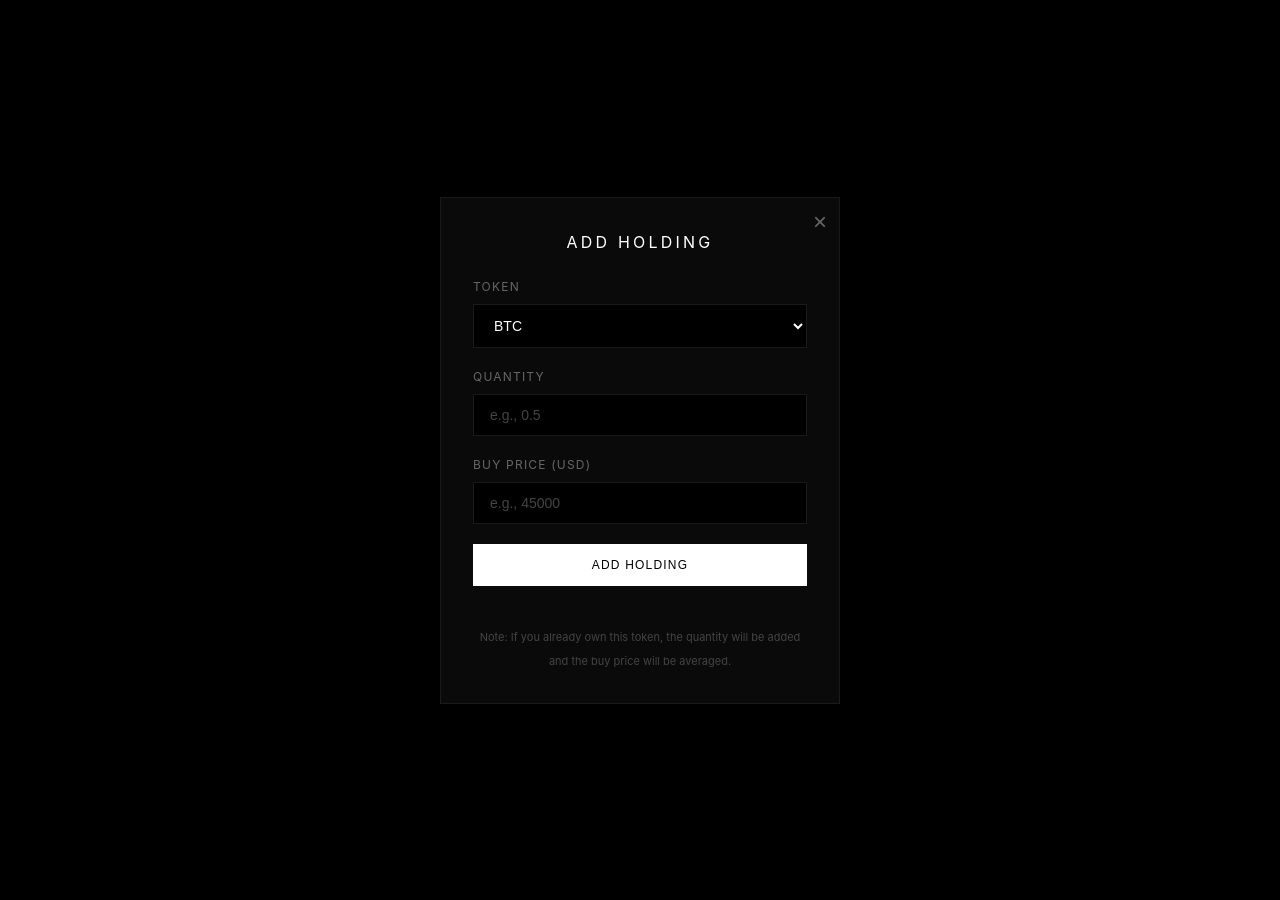
it: AddHoldingModal › shows error on network failure
Type "0.5" into the number field labelled "Quantity" at (640,414), box [473,394,807,436]
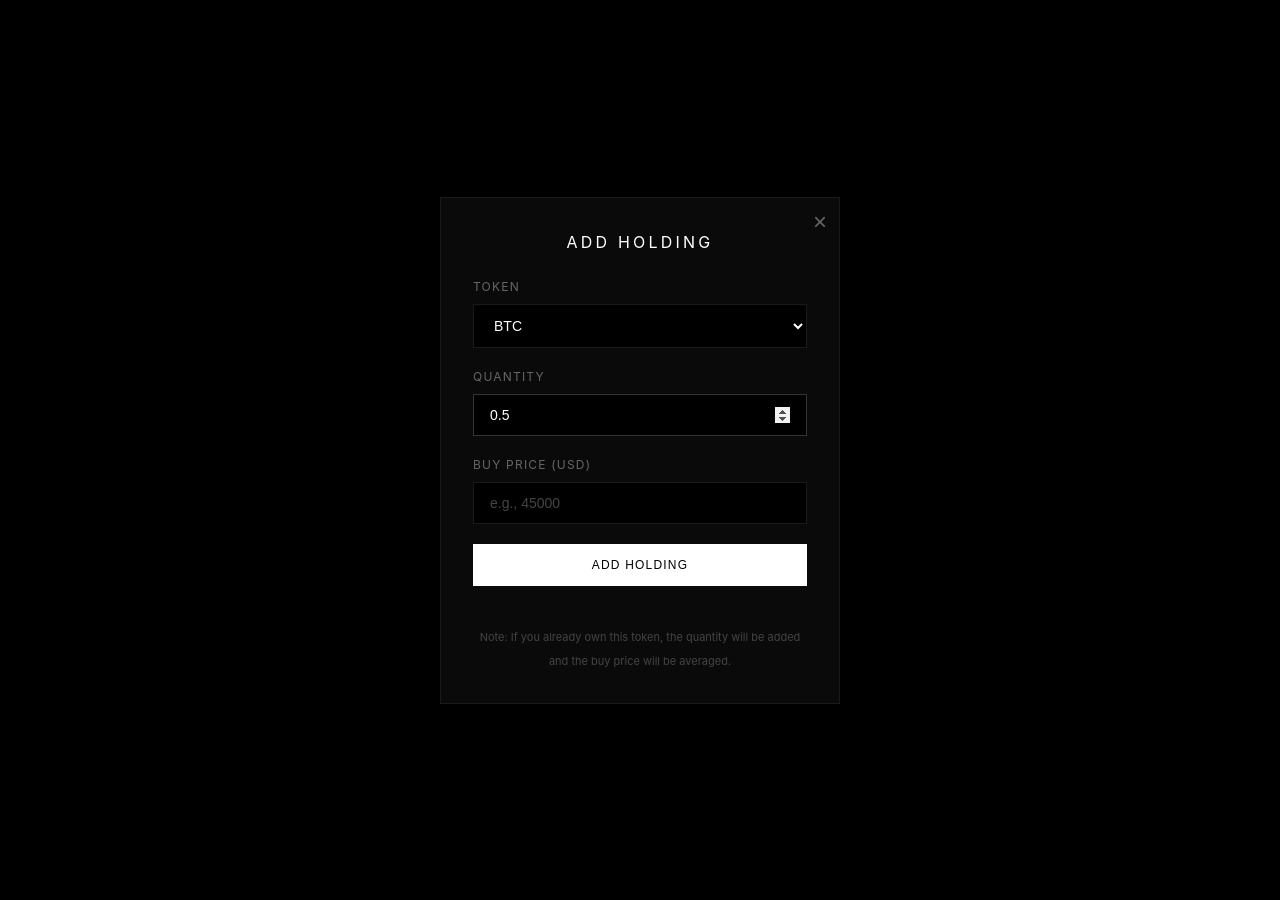
Type "40000" into the number field labelled "Buy Price (USD)" at (640,502), box [473,482,807,524]
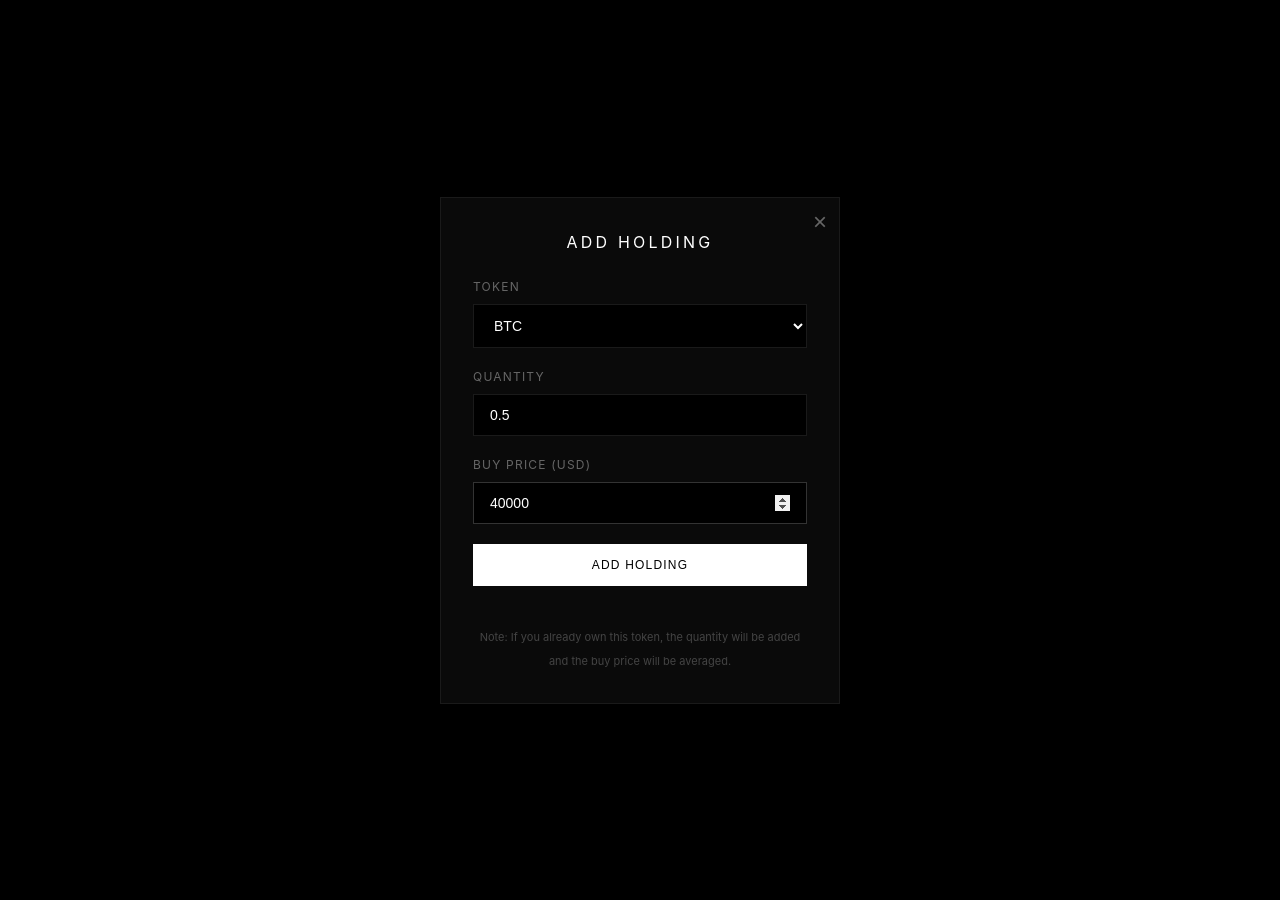
Click the button "Add Holding" at (640,564), box [473,544,807,586]
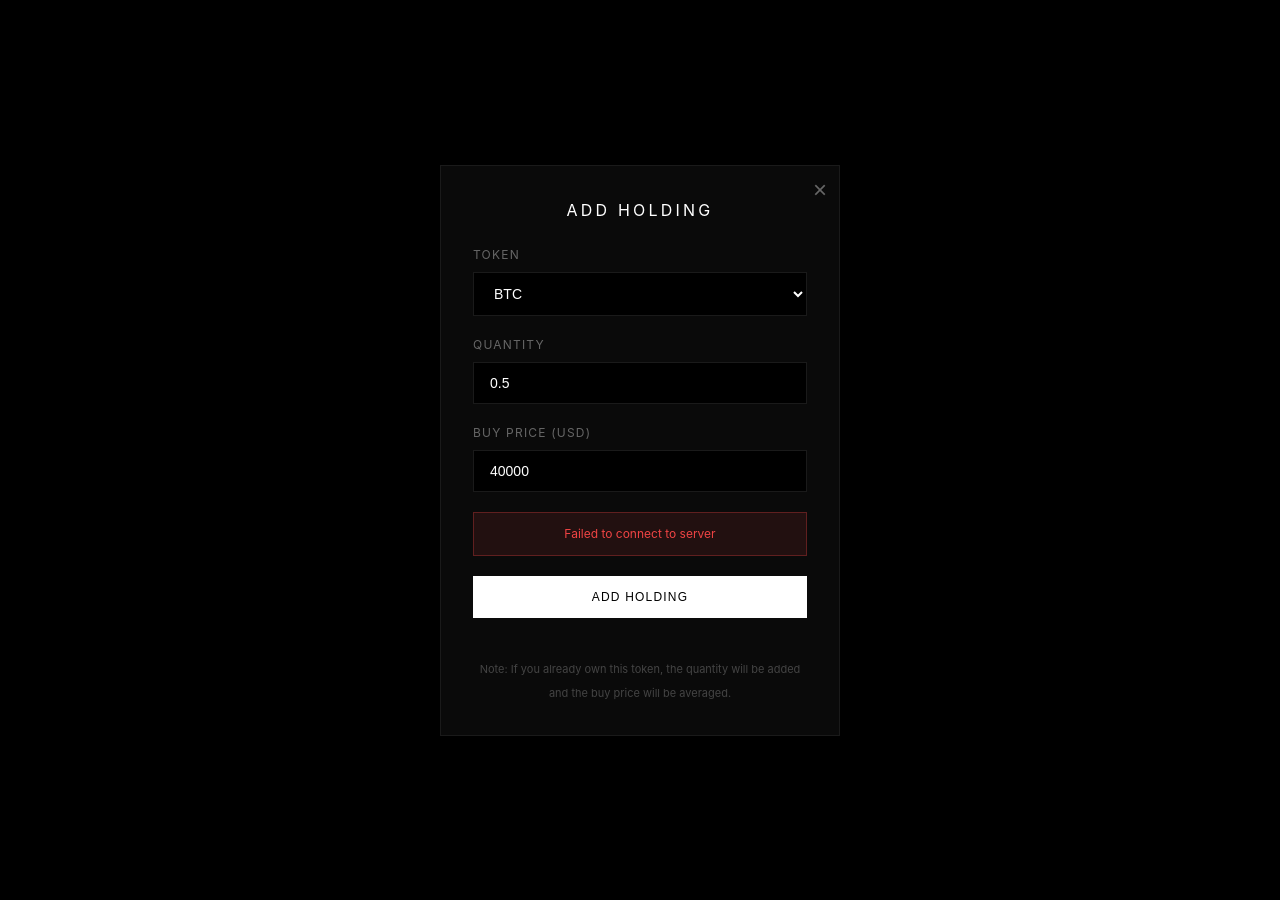
Now the text "Failed to connect to server" is shown, box [473,512,807,556]
